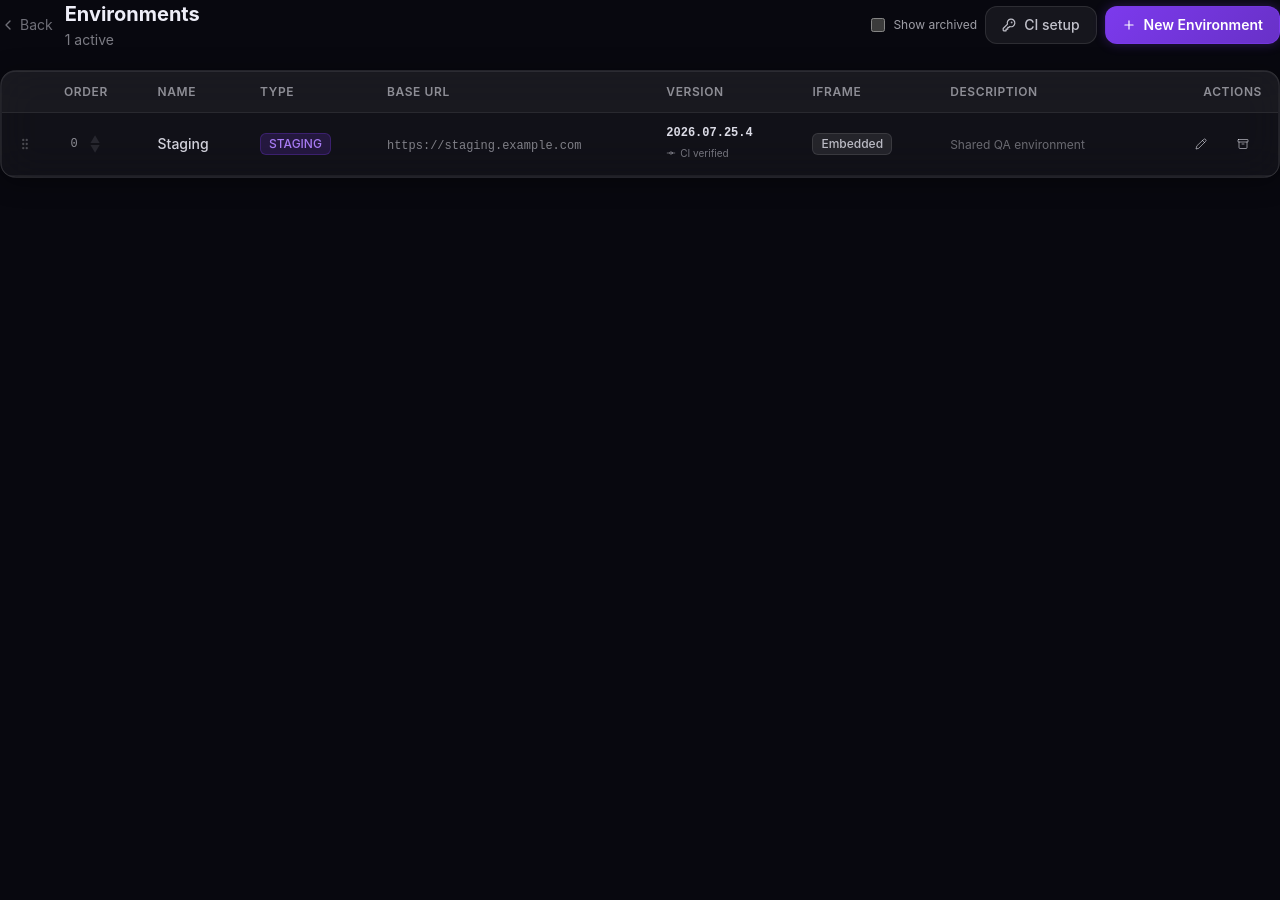
Scenario: EnvironmentsPage releases › shows the current version and its component-level release history
The width and height of the screenshot is (1280, 900).
Expected: the text "2026.07.25.4" is shown, [666,125,753,141]
Expected: the text "CI verified" is shown, [666,147,729,159]
Click the button titled "View deployment history".
click(710, 144)  # box [666,125,753,163]
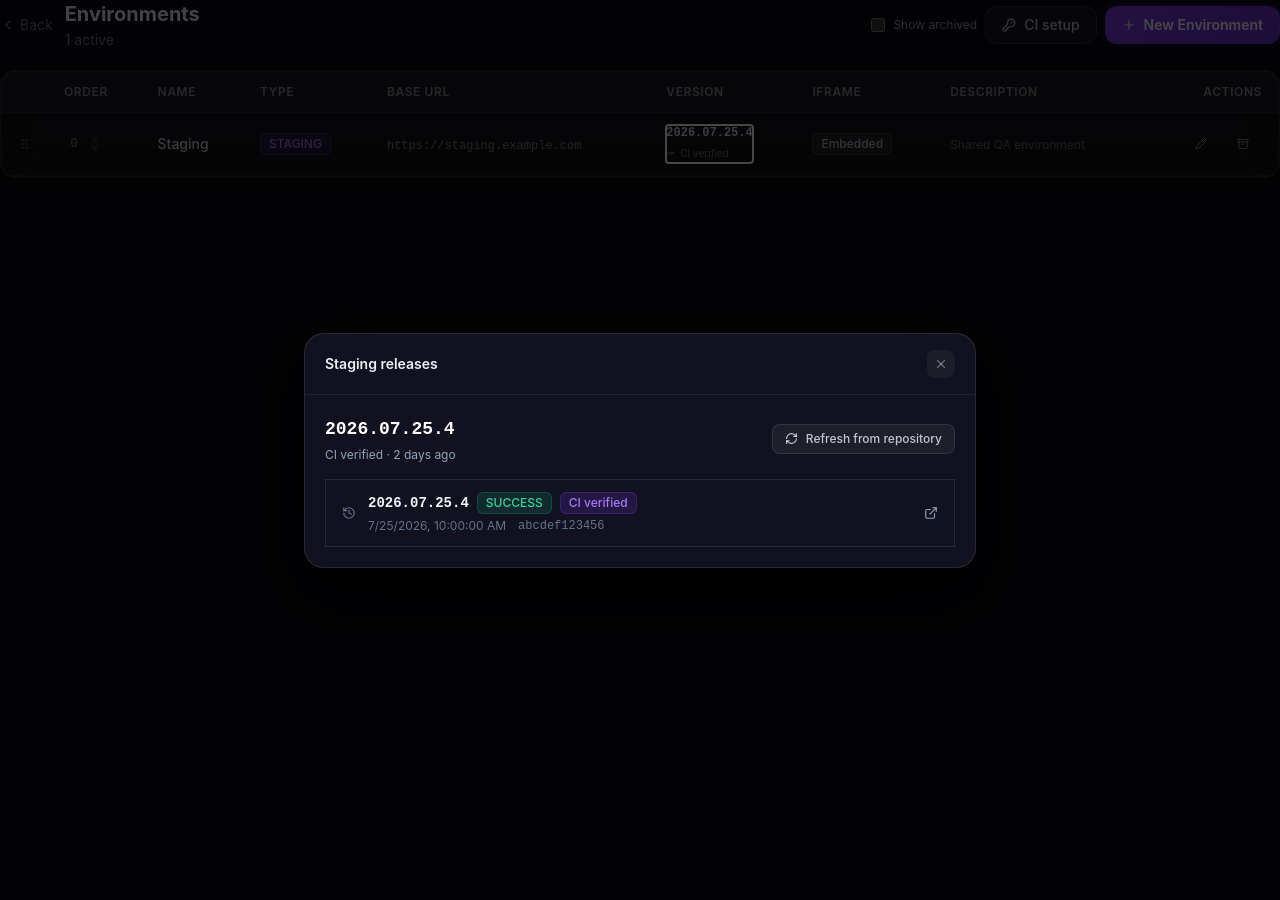
Expected: the dialog "Staging releases" is shown
